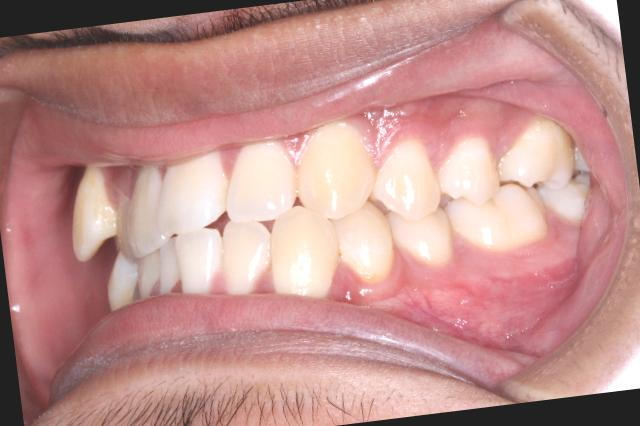canine class I: (253, 107, 402, 309)
molar class III 3/4: (434, 115, 586, 258)
